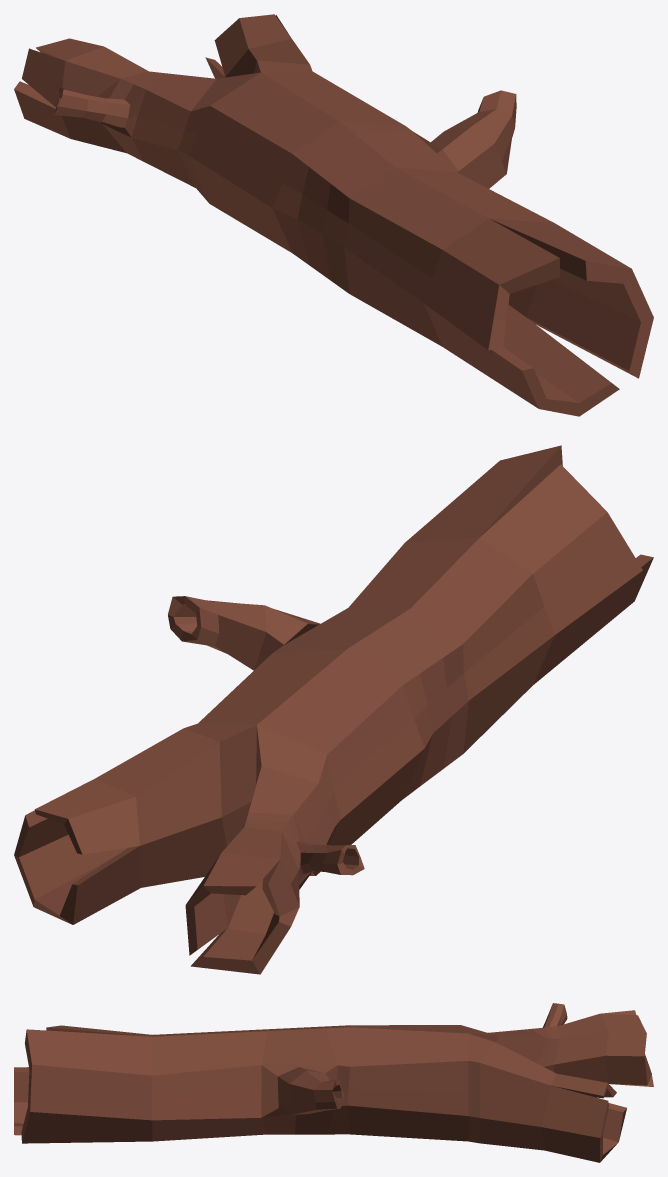
Rendered from Log_02.fbx.
The picture shows the model from 3 angles, top to bottom: view 1: azimuth 30°, elevation 25°; view 2: azimuth 150°, elevation 25°; view 3: azimuth 270°, elevation 25°; orthographic projection. The views are drawn at different scales.
Parts seen in each view (by area): view 1: Log_02; view 2: Log_02; view 3: Log_02.
Boxes of the visible parts, <box> form: Log_02: <box>14,14,653,416</box>; Log_02: <box>14,445,653,974</box>; Log_02: <box>14,1003,653,1162</box>.
Bounding box in the file's own units: 1.4 × 0.6491 × 3.28.
1 material, 1 textured.
